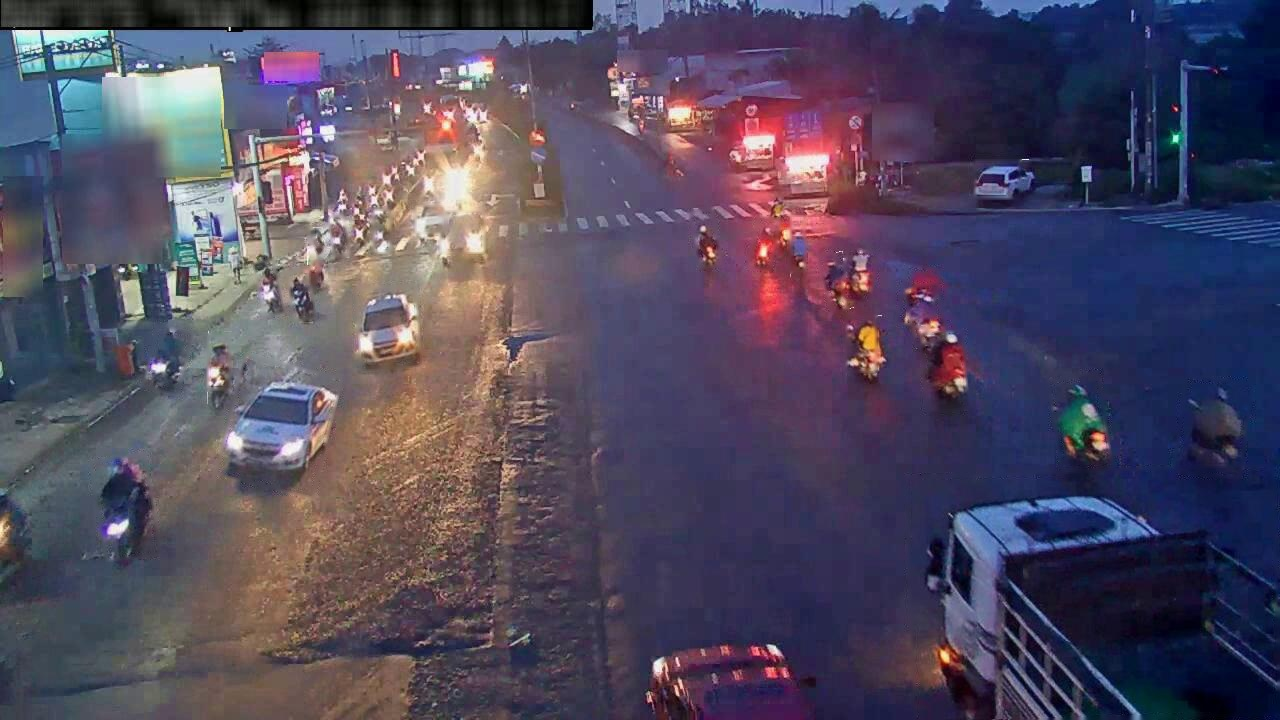Car: (646, 644, 815, 719), (225, 382, 337, 471), (357, 294, 419, 364), (438, 214, 487, 267), (974, 165, 1034, 204), (0, 489, 30, 565), (414, 207, 454, 237)
Motorcycle: (929, 332, 967, 398), (824, 247, 870, 296), (754, 235, 777, 267), (261, 283, 282, 313), (791, 232, 807, 268)
Motorcyclist: (1187, 386, 1244, 467), (1058, 385, 1110, 463), (904, 288, 944, 351), (848, 319, 885, 381), (146, 329, 181, 390), (903, 270, 939, 326), (206, 343, 233, 409), (291, 277, 314, 322), (697, 225, 718, 265), (307, 247, 324, 292), (305, 230, 323, 270), (372, 209, 388, 250), (331, 218, 347, 257)
Pedestrian: (121, 480, 152, 558), (100, 458, 141, 510), (228, 246, 241, 284)
Traffic light: (1168, 102, 1184, 146), (389, 50, 400, 79)
Truck: (926, 496, 1279, 719)
